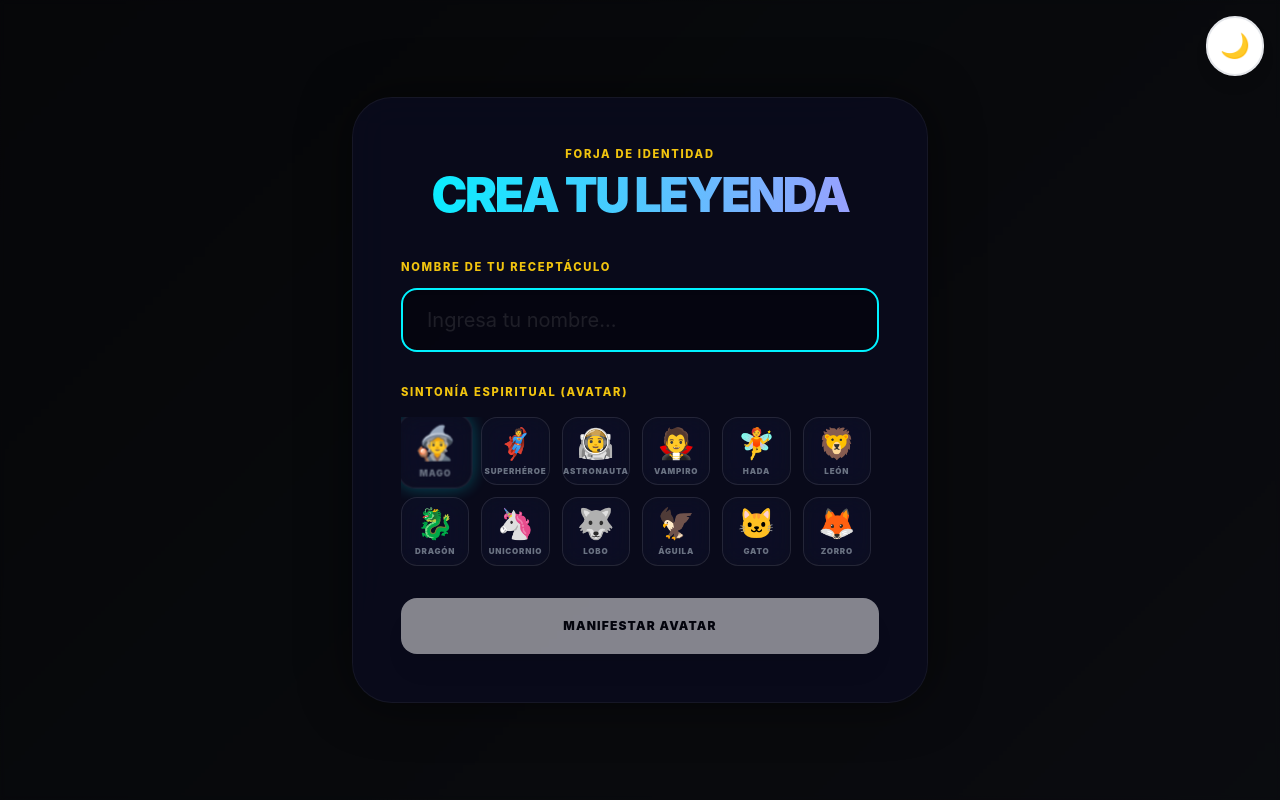
Scenario: CharacterCreation Component › enables submit button when name is entered
The image size is (1280, 800).
In the field labelled "Nombre de tu receptáculo": (640, 320) [401,288,879,352], type "Aragorn"
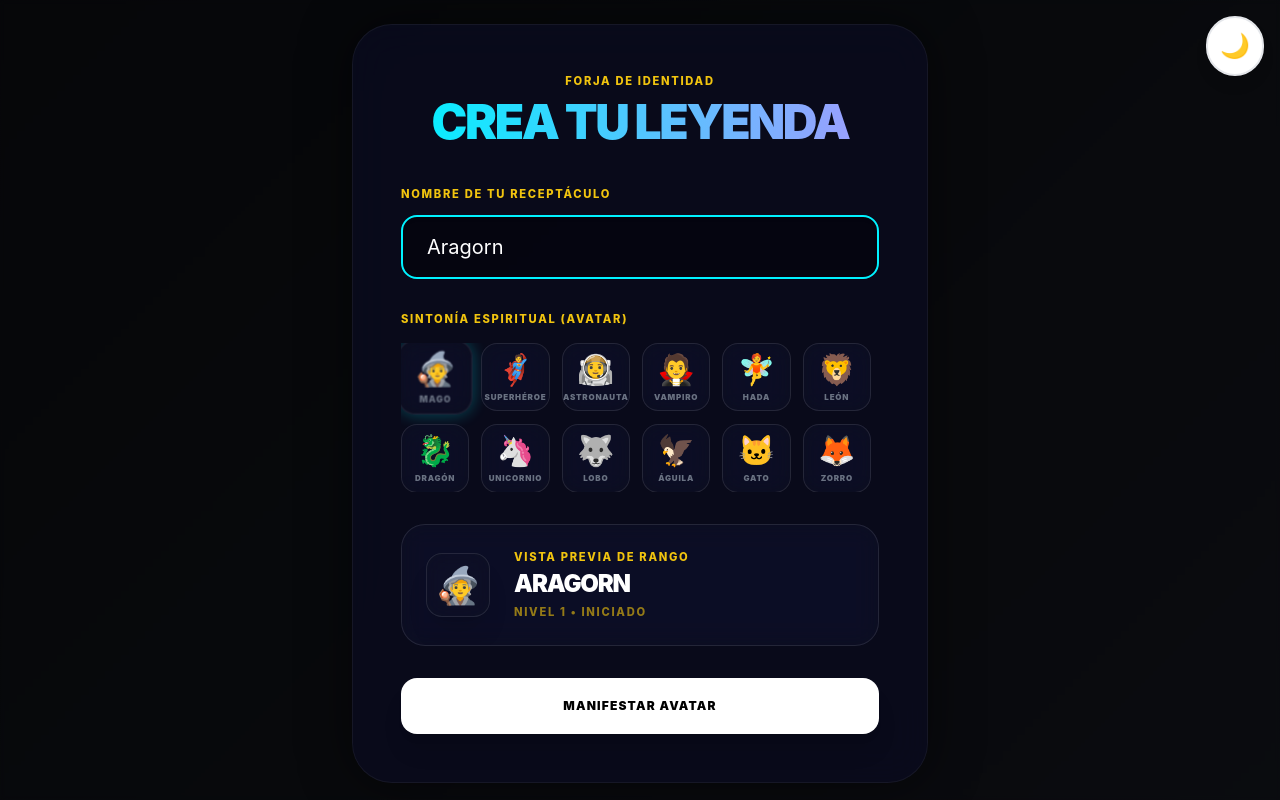
Expected: the button "MANIFESTAR AVATAR" is enabled, [401,678,879,734]
